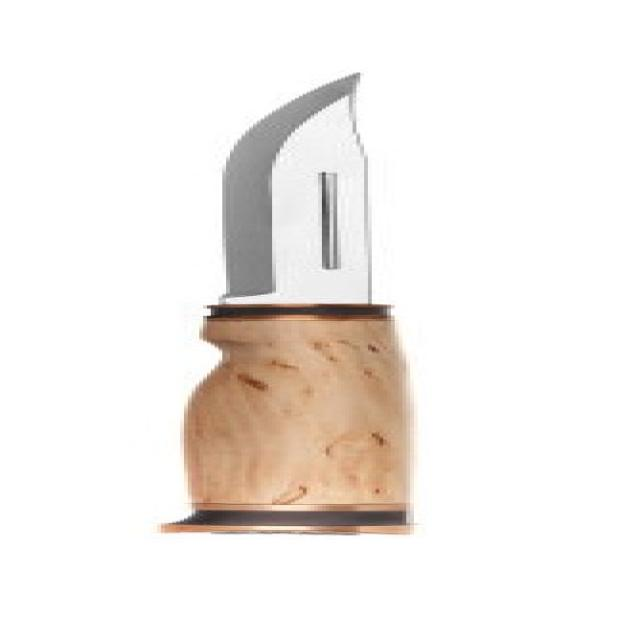knife: (123, 62, 496, 556)
